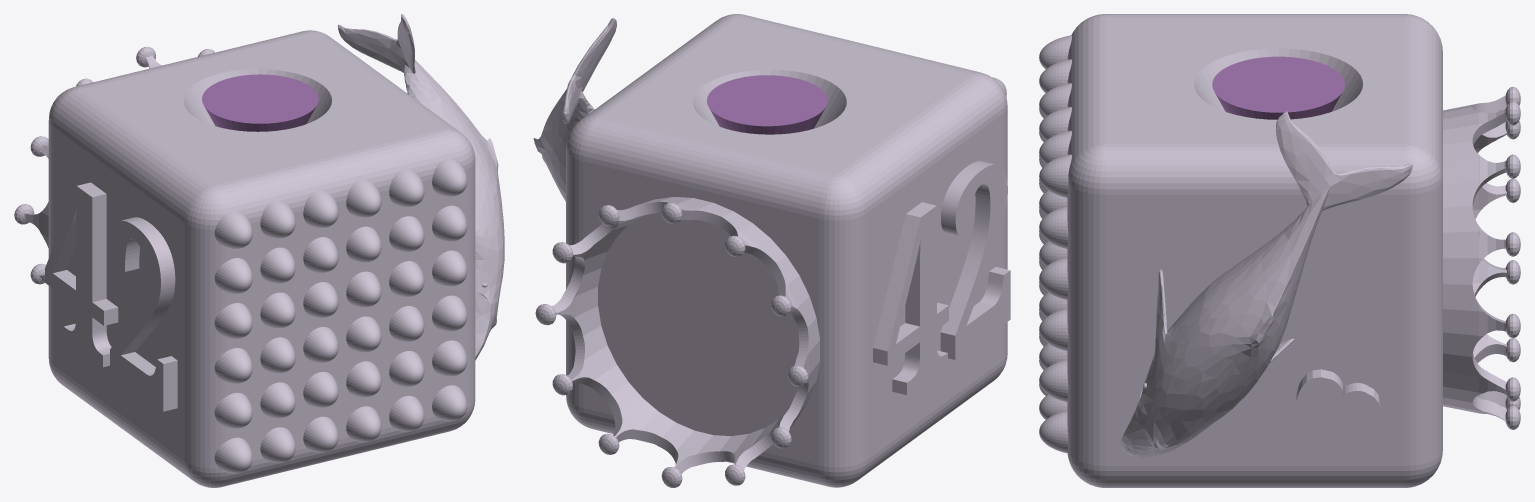
Rendered from evie.b beck dreamy trio.glb.
3 views of the same model, side by side, from view 1: azimuth 30°, elevation 25°; view 2: azimuth 150°, elevation 25°; view 3: azimuth 270°, elevation 25° (orthographic). The views are drawn at different scales.
Parts seen in each view (by area): view 1: Mesh_Mesh_head_geo.001_lambert2SG.001; view 2: Mesh_Mesh_head_geo.001_lambert2SG.001; view 3: Mesh_Mesh_head_geo.001_lambert2SG.001.
Part boxes in pixels (x1,y1,x2,y2): Mesh_Mesh_head_geo.001_lambert2SG.001: [14, 14, 504, 487]; Mesh_Mesh_head_geo.001_lambert2SG.001: [533, 14, 1010, 487]; Mesh_Mesh_head_geo.001_lambert2SG.001: [1039, 14, 1520, 487].
Bounding box in the file's own units: 0.0467 × 0.0393 × 0.0435.
